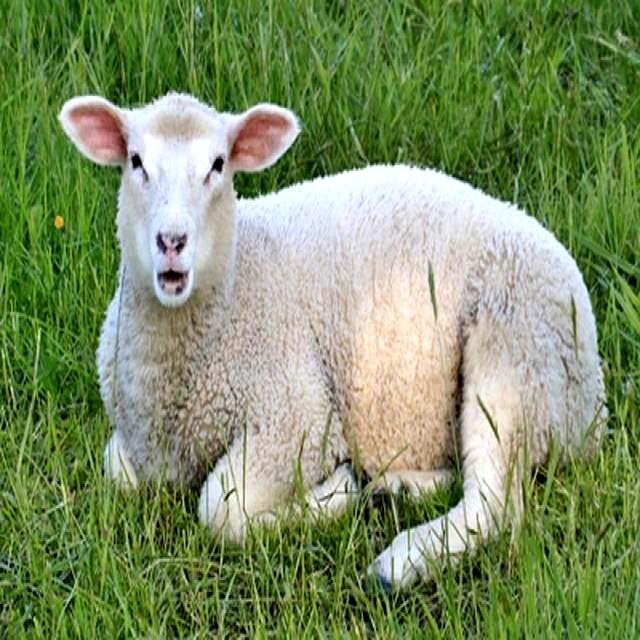sheep: (63, 92, 610, 604)
